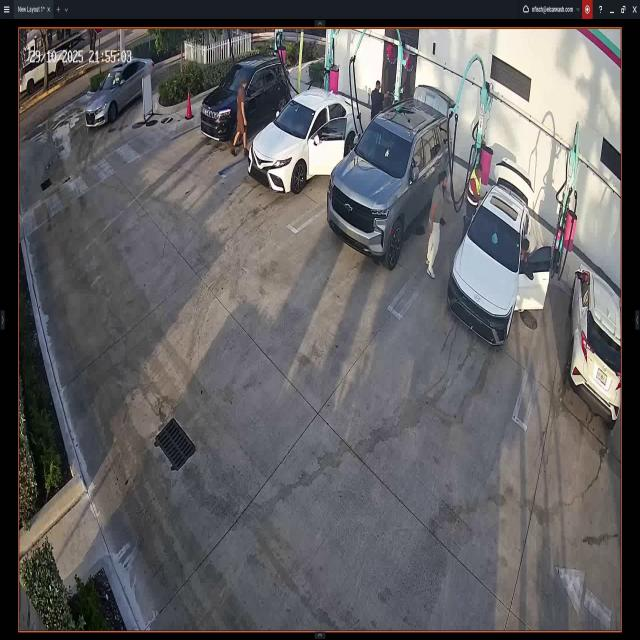Car: (323, 92, 453, 267), (451, 158, 550, 341), (245, 96, 360, 188), (198, 56, 291, 154), (570, 258, 619, 425), (81, 58, 154, 124)
